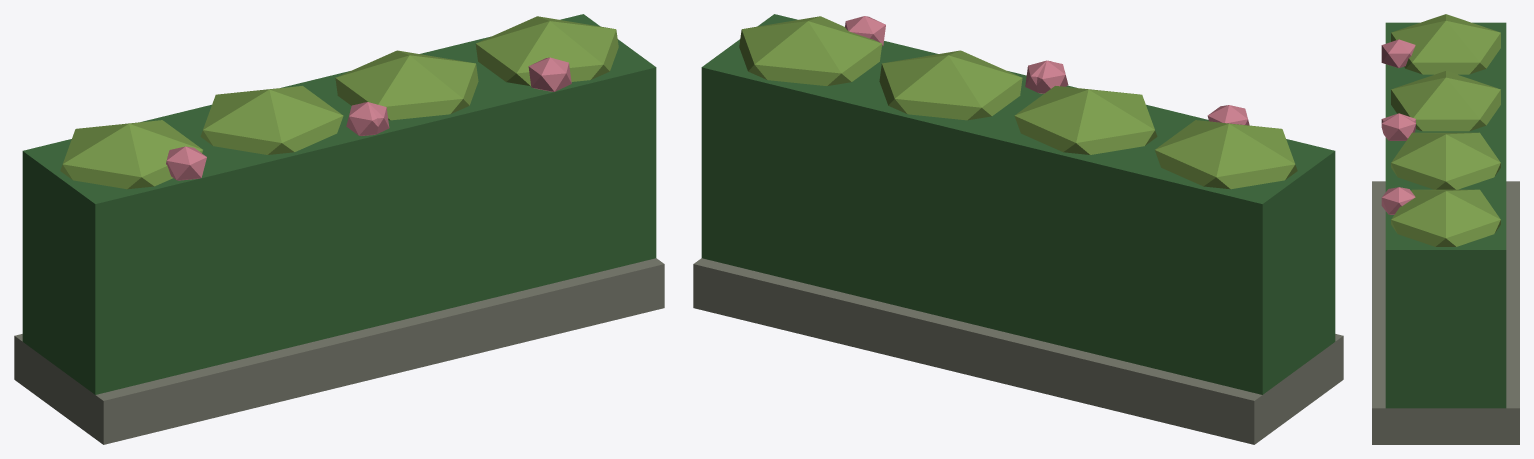
The model's file is Backyard_HedgeStraight_Showcase.glb.
3 views of the same model, side by side, from view 1: azimuth 30°, elevation 25°; view 2: azimuth 150°, elevation 25°; view 3: azimuth 270°, elevation 25° (orthographic). The views are drawn at different scales.
Parts seen in each view (by area): view 1: Backyard_HedgeStraight_Showcase; view 2: Backyard_HedgeStraight_Showcase; view 3: Backyard_HedgeStraight_Showcase.
Boxes of the visible parts, x1=… form: Backyard_HedgeStraight_Showcase: x1=14, y1=14, x2=664, y2=444; Backyard_HedgeStraight_Showcase: x1=693, y1=14, x2=1343, y2=444; Backyard_HedgeStraight_Showcase: x1=1372, y1=14, x2=1519, y2=444.
Size of the model in its own units: 4 by 1.85 by 1.1.
